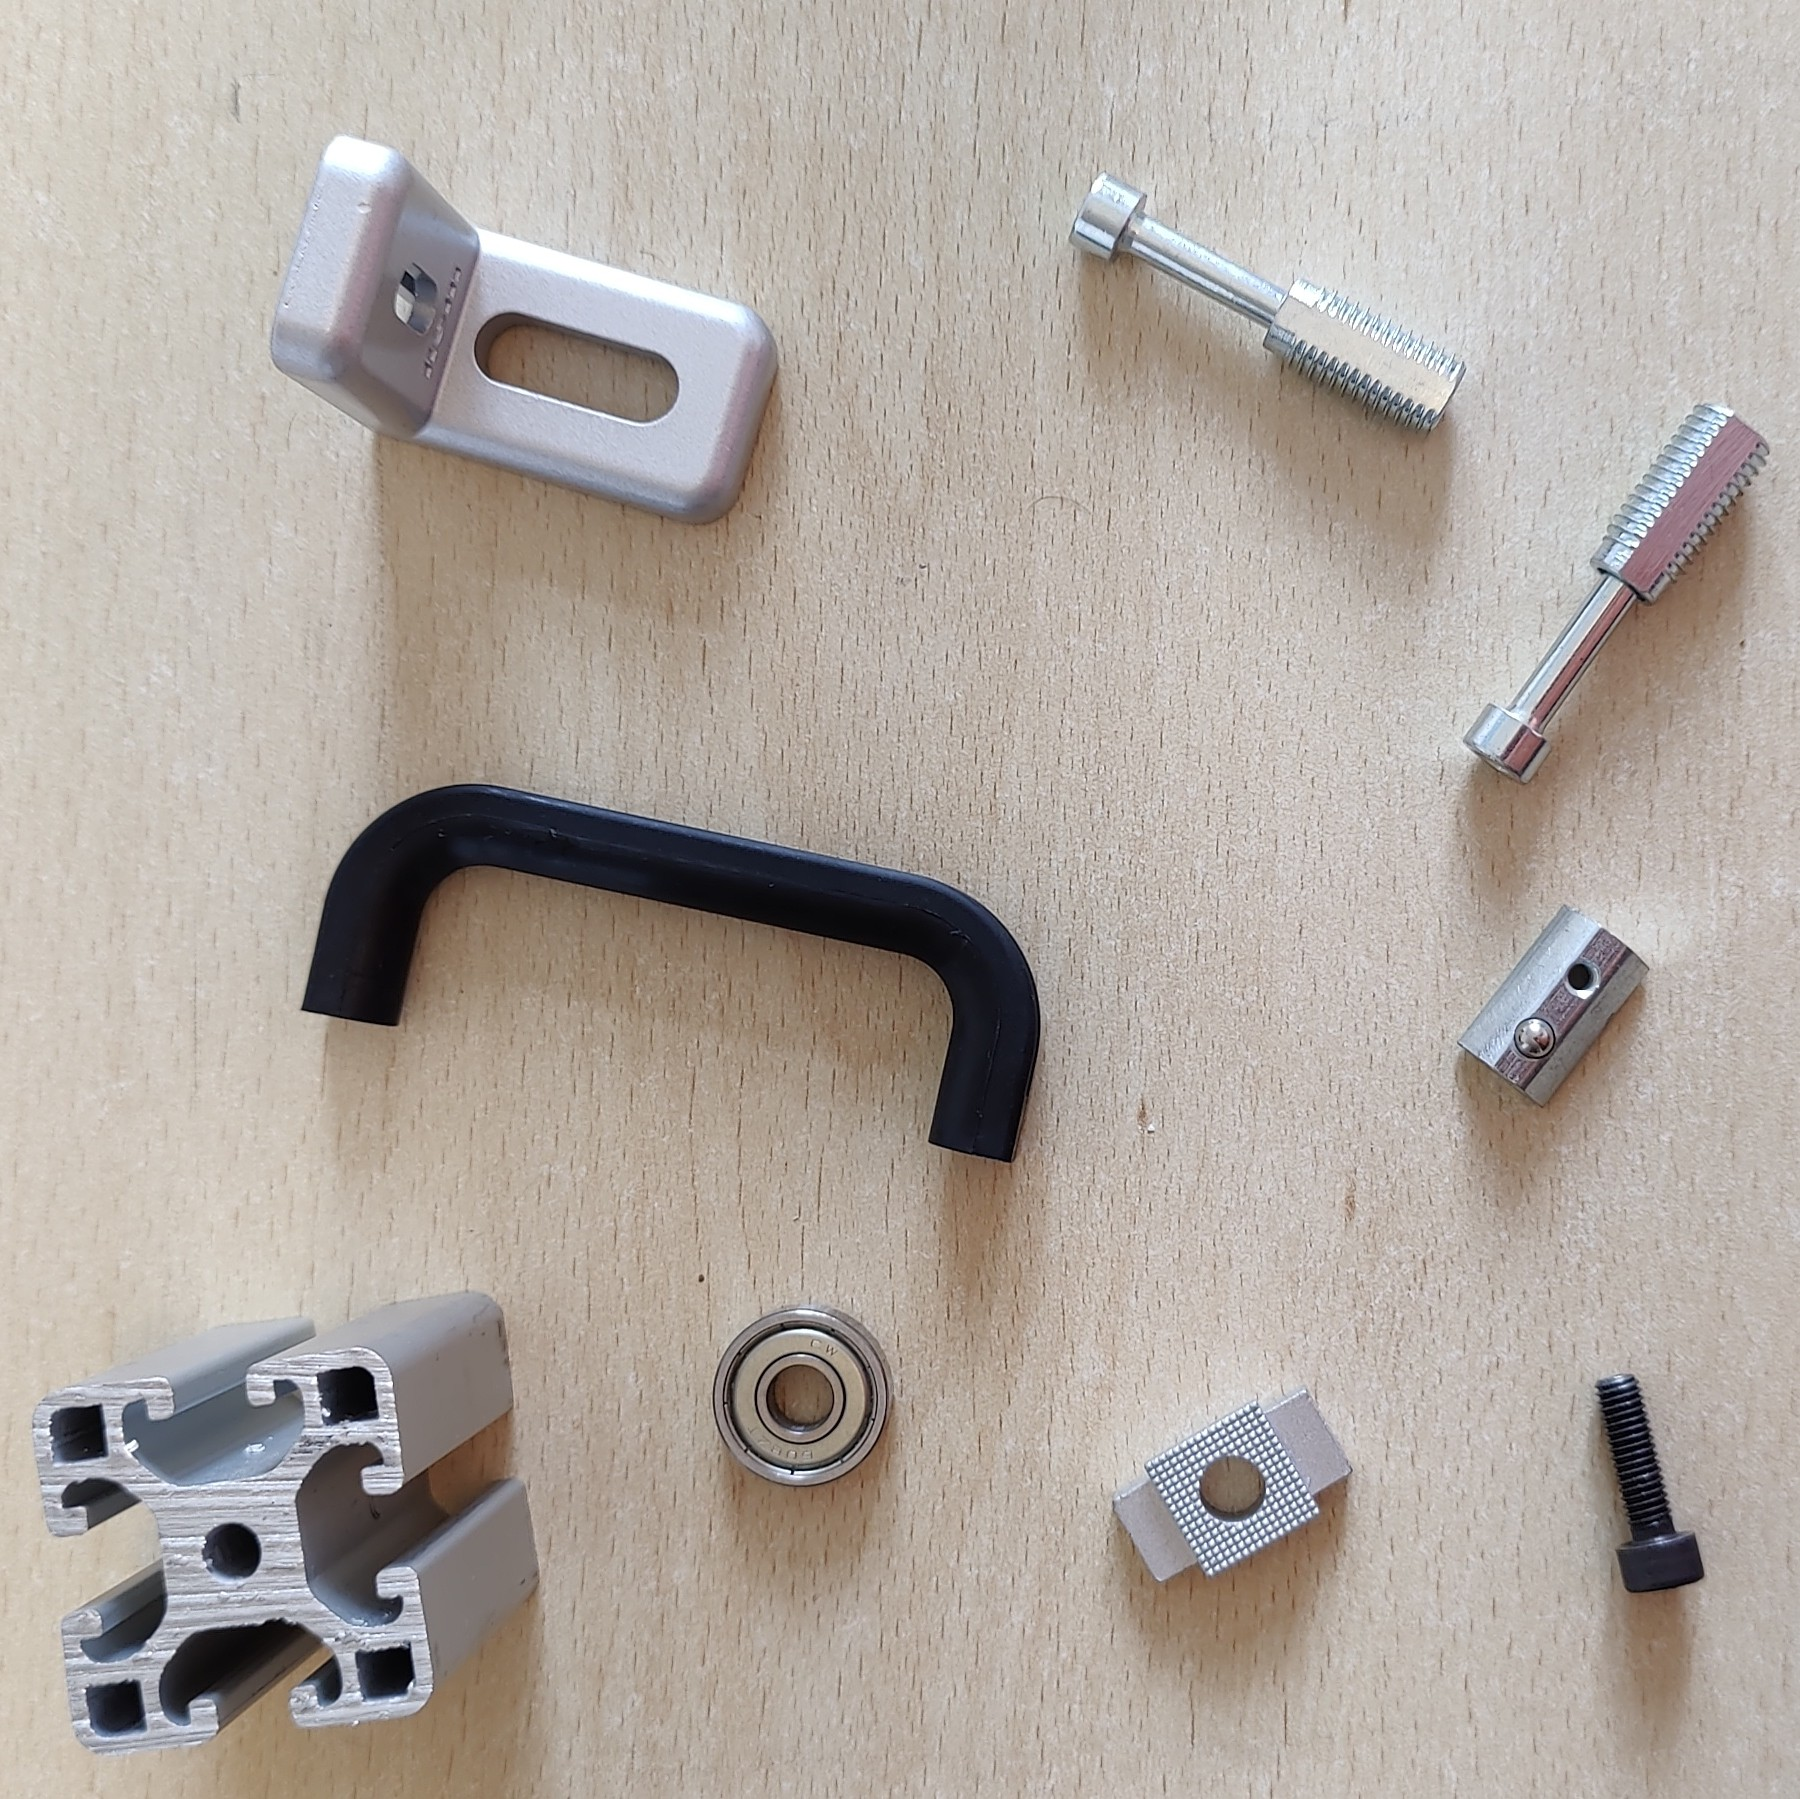Aluminium Extension: (35, 1285, 543, 1758)
Ball Bearing: (711, 1301, 894, 1489)
Multiwinkel: (272, 130, 782, 527)
Pull Handle: (298, 783, 1046, 1165)
Shoulder Socket Head Cap Screw: (1462, 399, 1770, 784), (1066, 170, 1471, 442)
Socket Head Cap Screw: (1592, 1369, 1706, 1600)
T Nut Square: (1113, 1384, 1355, 1586)
T Spring Nut: (1456, 899, 1652, 1110)
